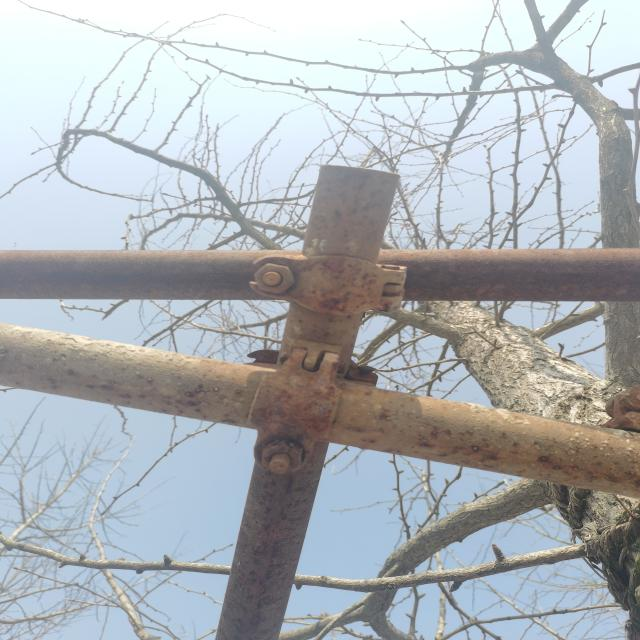bolt nut: (258, 438, 306, 476), (252, 262, 296, 296)
